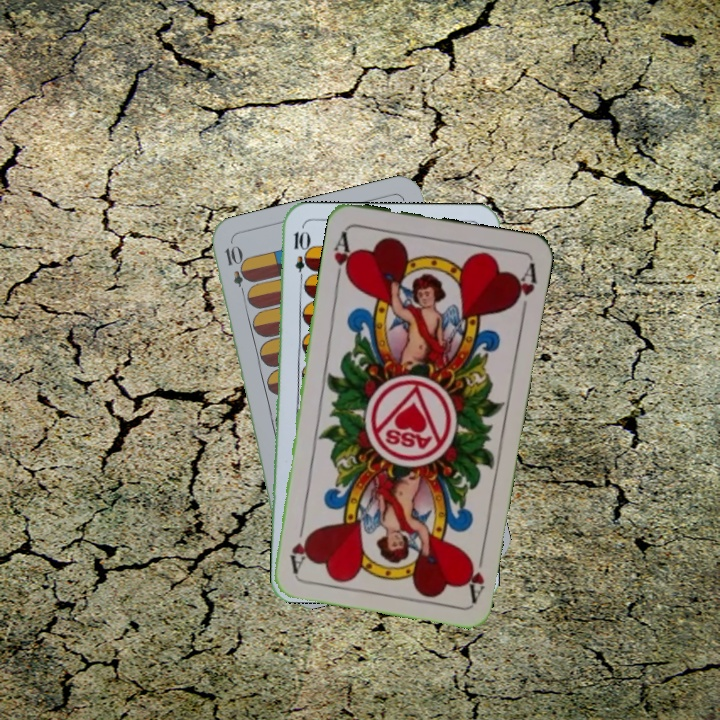E10: (220, 241, 250, 300), (290, 227, 308, 286)
HA: (460, 545, 488, 604), (329, 227, 357, 285)
